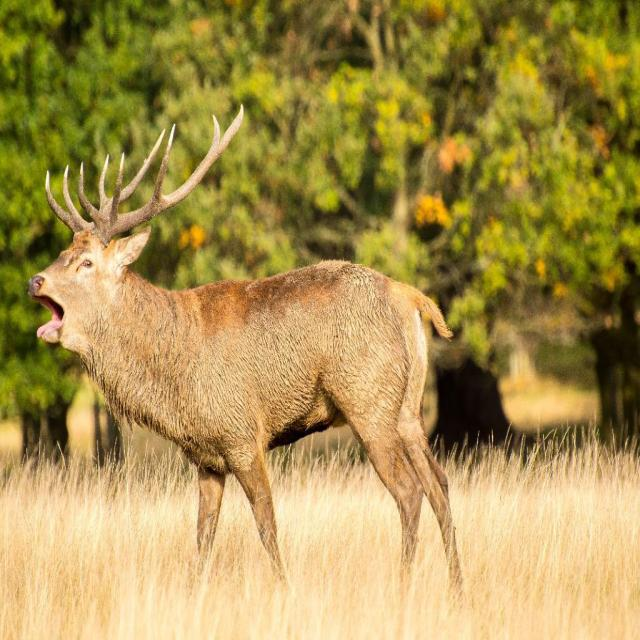Deer: (31, 103, 466, 632)
